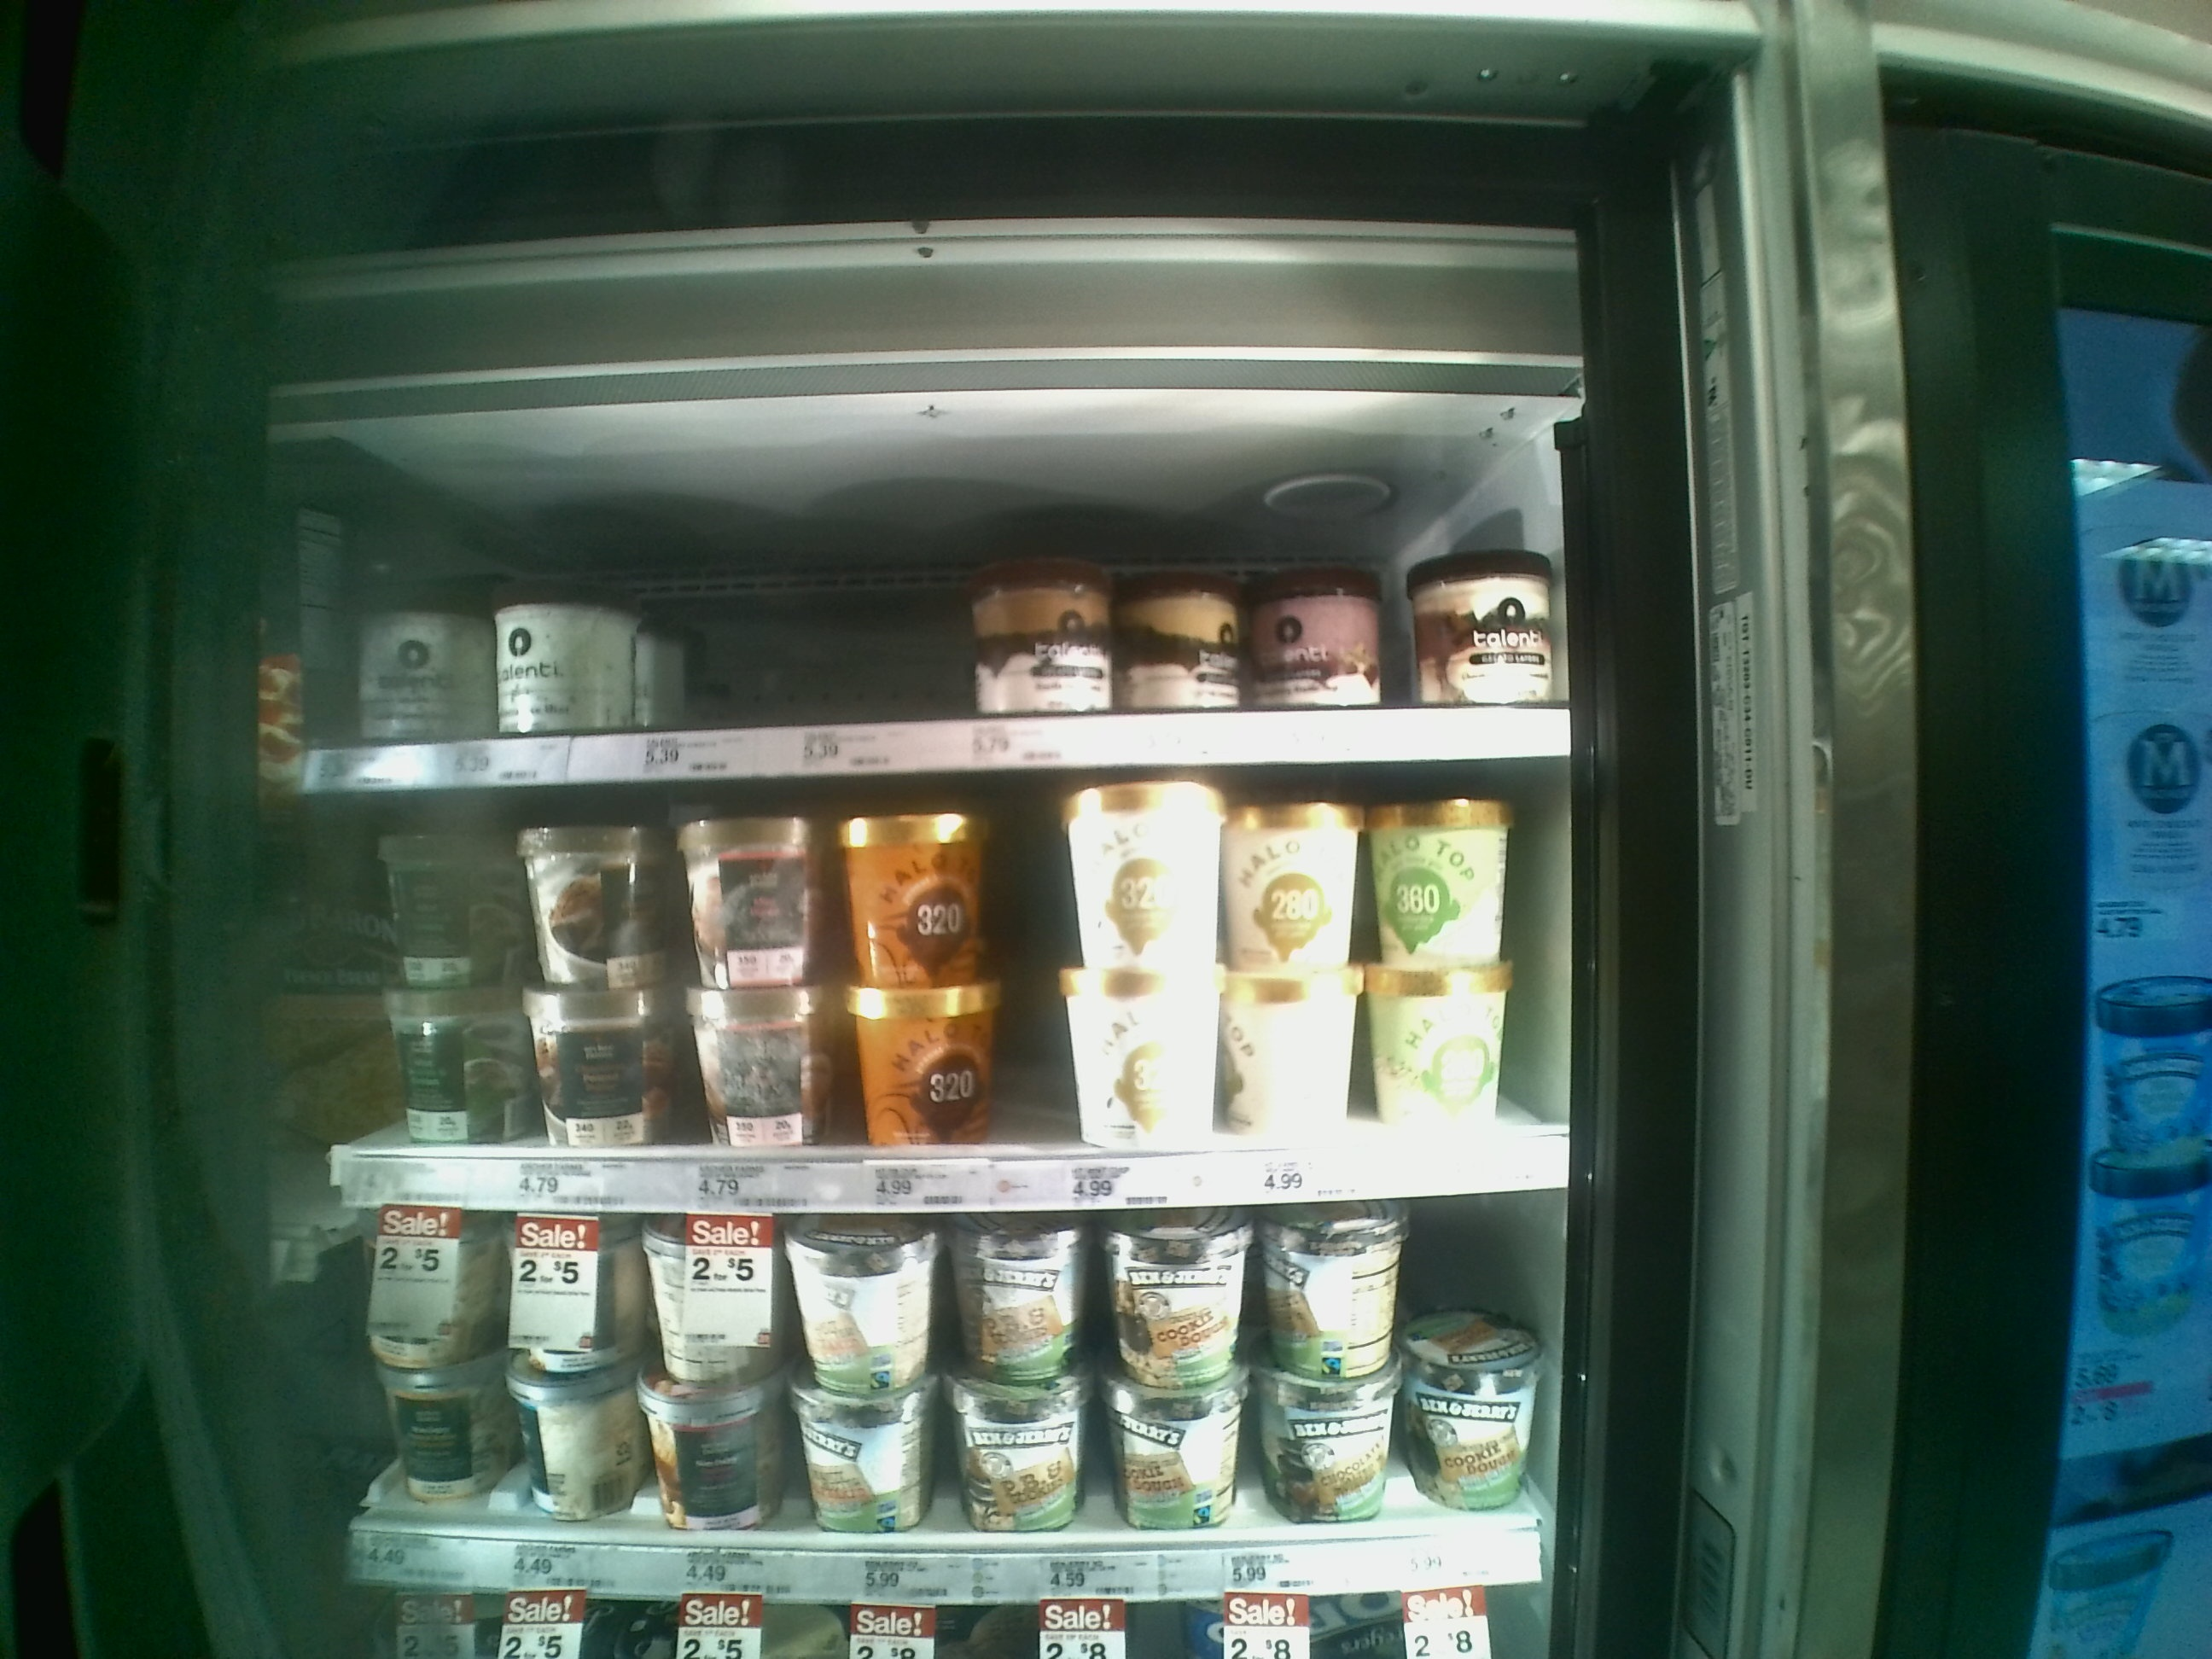ice-cream-shelf: (341, 789, 1564, 1197), (355, 1213, 1561, 1584)
